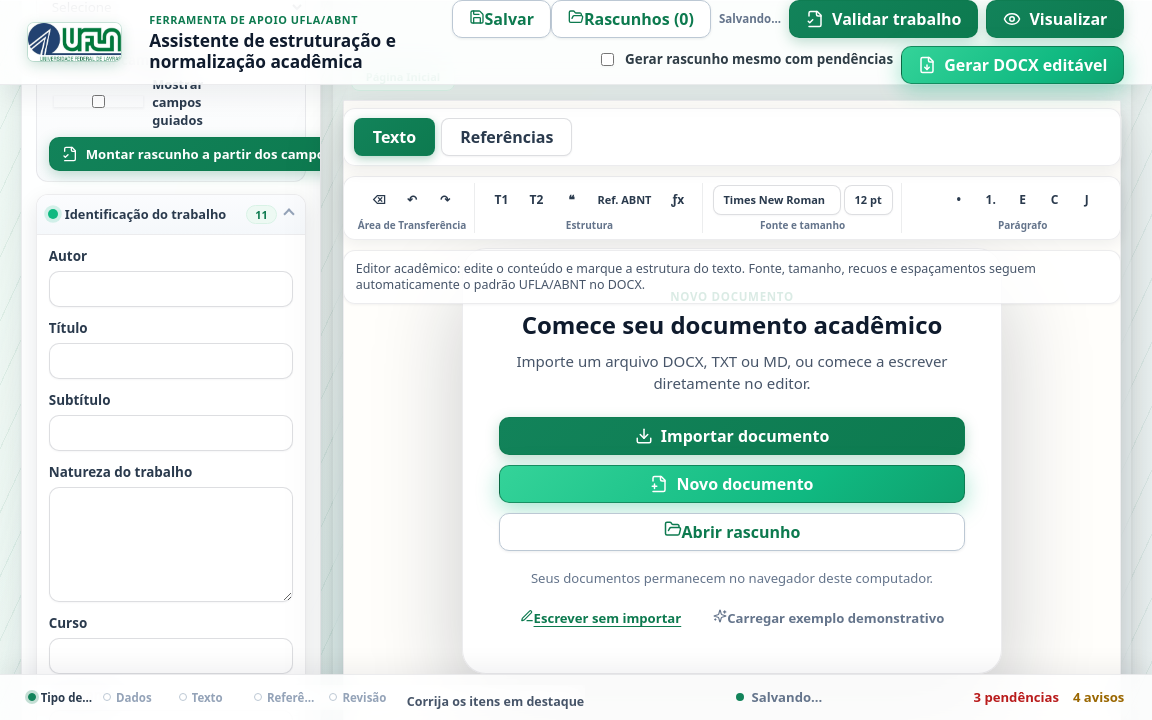
Scenario: Fase A — progresso, navegação de pendências e autosave › UX-03: autosave exibe hora do último salvamento
This screenshot has width=1152, height=720.
(page scrolled)
Type "Título de teste" into the field labelled "Título". click: (171, 361)
box: [49,343,293,379]
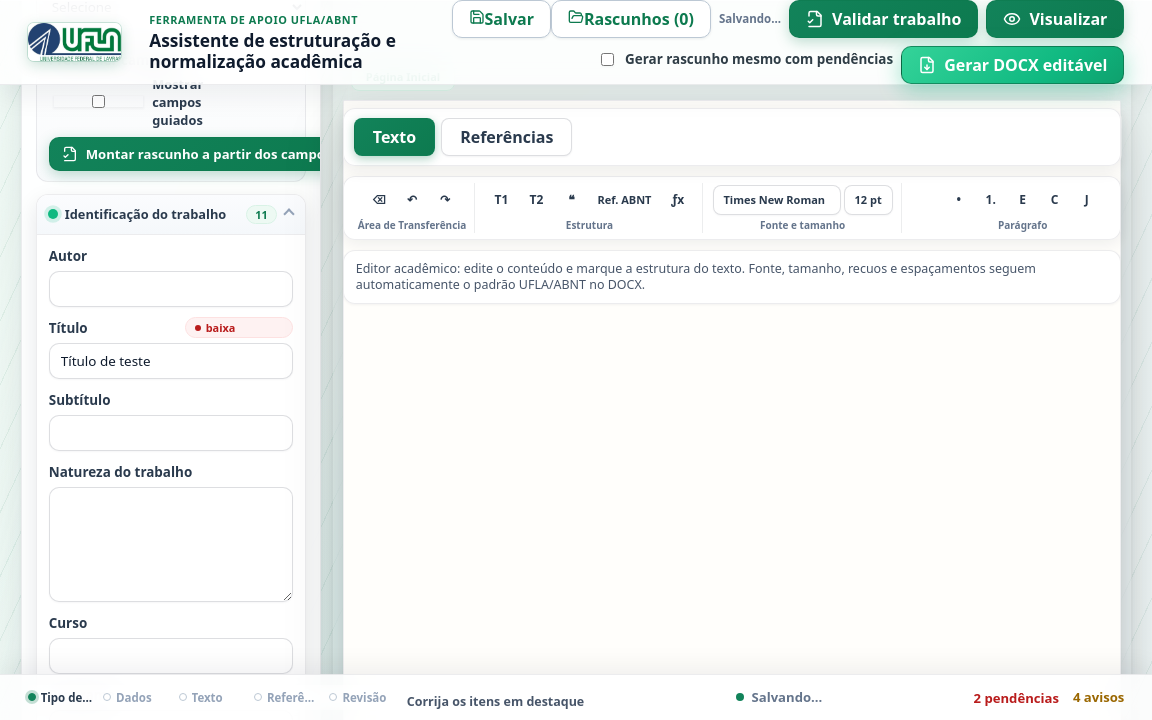
Type "Maria Silva" into the field with id "author". click: (171, 289)
box: [49,271,293,307]
Wait 900 ms
(page scrolled)
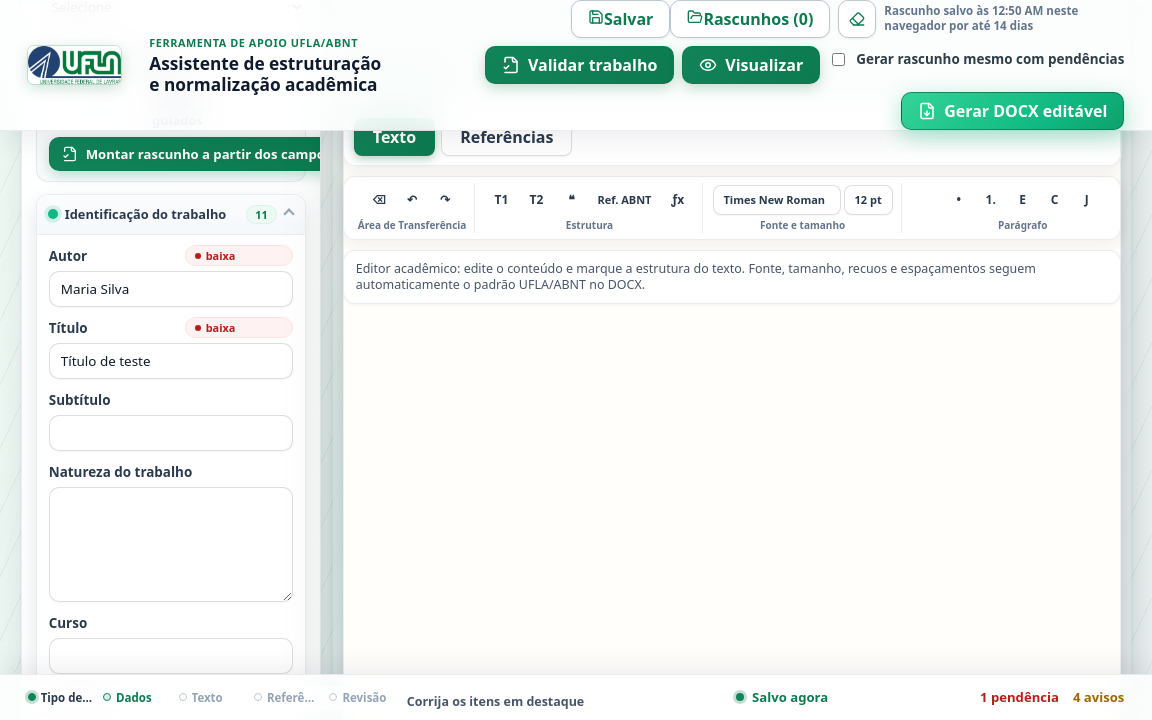
expect the text "Rascunho salvo às 12:50 AM neste navegador por até 14 dias" is shown: met, box [884,3,1078,33]
